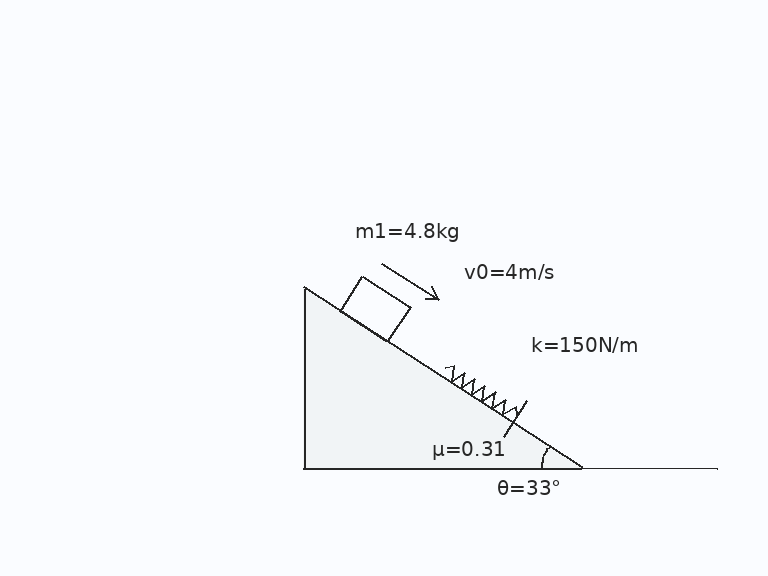block: (338, 275, 411, 343)
ramp: (302, 285, 584, 470)
spring: (443, 364, 519, 417)
